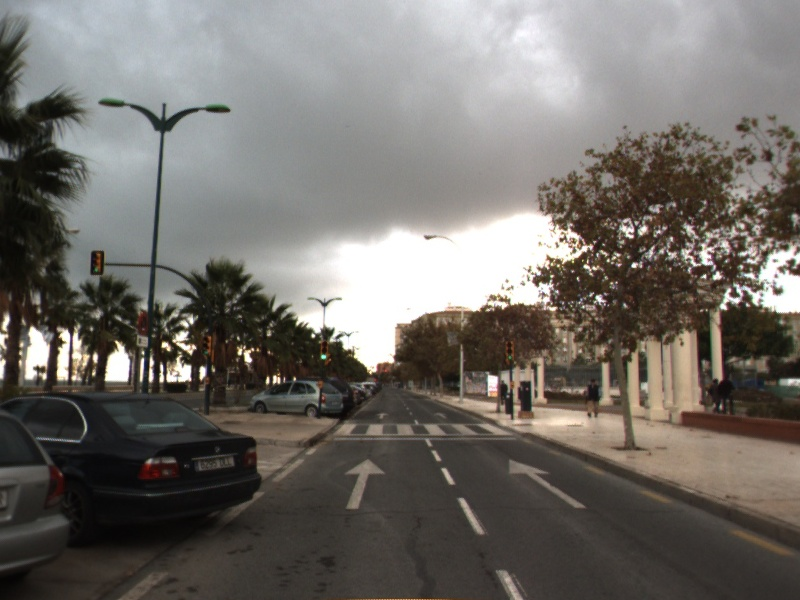STRAIGHT: (507, 457, 587, 509), (343, 457, 387, 510), (431, 411, 450, 421), (374, 411, 391, 421)
